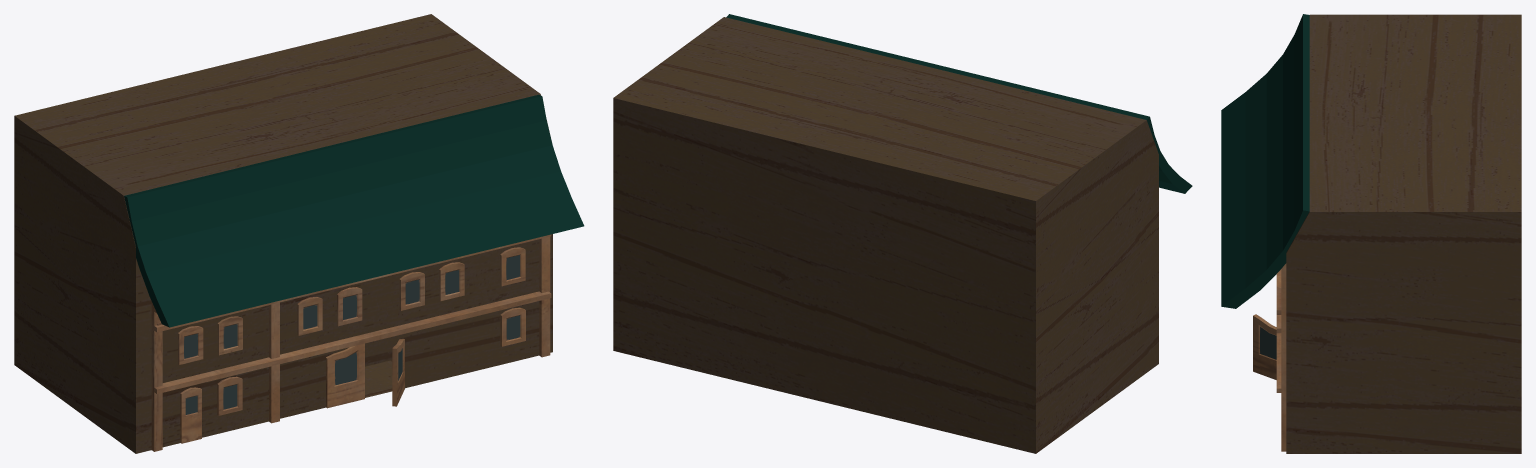
Rendered from BarnBuilding.fbx.
3 renders of one model, left to right at view 1: azimuth 30°, elevation 25°; view 2: azimuth 150°, elevation 25°; view 3: azimuth 270°, elevation 25°, orthographic. The views are drawn at different scales.
Visible parts, largest first — view 1: Plane.004; view 2: Plane.004; view 3: Plane.004.
Part boxes in pixels (left/top/right/bottom): Plane.004: left=14, top=14, right=584, bottom=453; Plane.004: left=613, top=14, right=1192, bottom=453; Plane.004: left=1221, top=14, right=1521, bottom=453.
Size of the model in its own units: 1750 by 1004 by 1126.
1 material, 1 textured.
